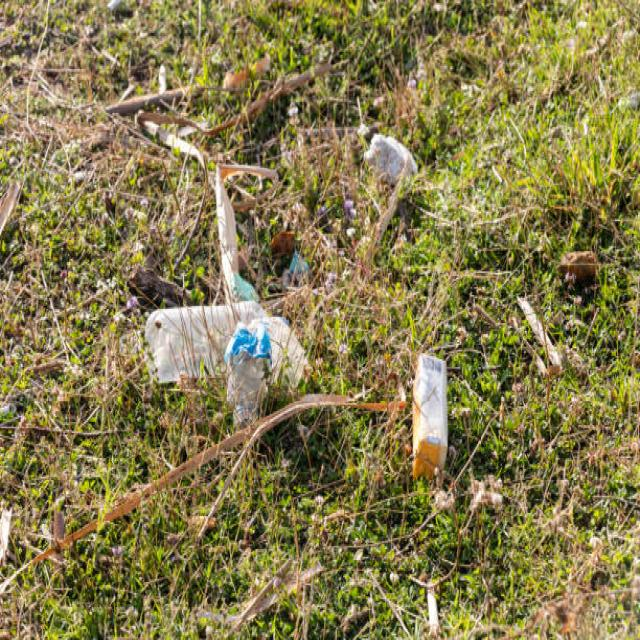plastic: (152, 307, 294, 398), (410, 358, 446, 480)
